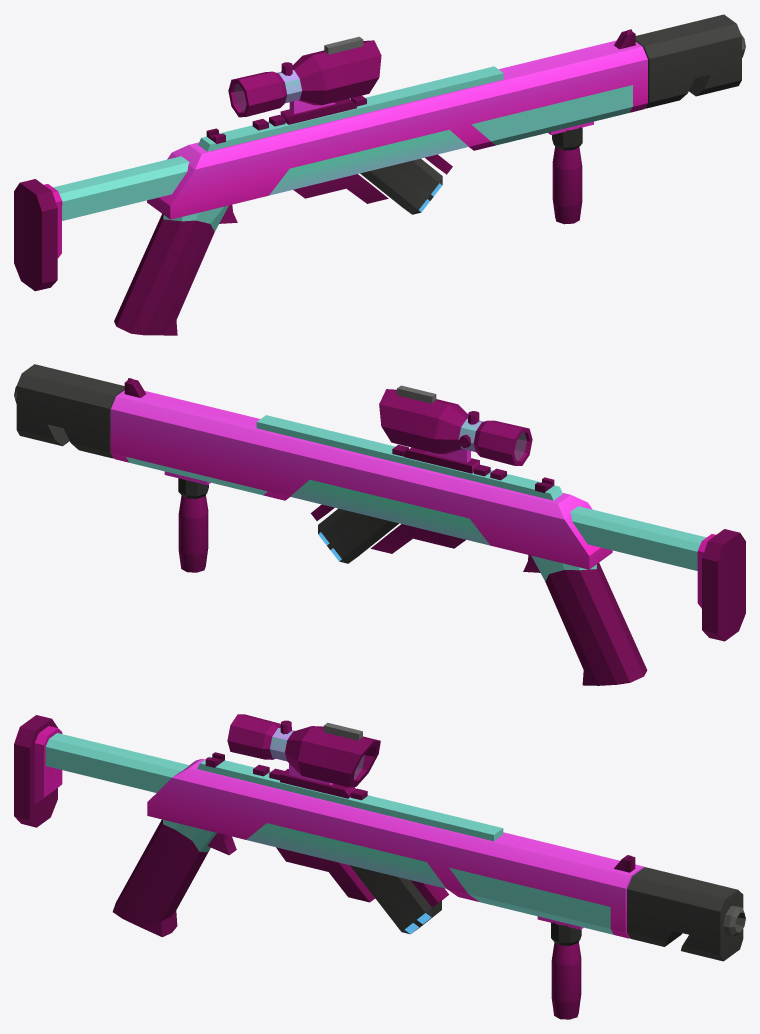
File: DMR_A_mesh.fbx
3 renders of one model, top to bottom at view 1: azimuth 30°, elevation 25°; view 2: azimuth 150°, elevation 25°; view 3: azimuth 330°, elevation 25°, orthographic.
Parts seen in each view (by area): view 1: DMR_A_mesh, ACOG_mesh1, DMR_Silencer_mesh, Foregrip_mesh1, Mag_M_mesh, DMRIronSights_mesh; view 2: DMR_A_mesh, ACOG_mesh1, DMR_Silencer_mesh, Foregrip_mesh1, Mag_M_mesh, DMRIronSights_mesh; view 3: DMR_A_mesh, DMR_Silencer_mesh, ACOG_mesh1, Foregrip_mesh1, Mag_M_mesh.
Boxes of the visible parts, x1,y1,x2,y2 form: DMR_A_mesh: (14,40,647,335); ACOG_mesh1: (228,36,381,124); DMR_Silencer_mesh: (635,14,745,108); Foregrip_mesh1: (548,121,593,224); Mag_M_mesh: (360,158,442,214); DMRIronSights_mesh: (206,29,635,144); DMR_A_mesh: (110,390,745,685); ACOG_mesh1: (379,385,532,473); DMR_Silencer_mesh: (14,364,124,458); Foregrip_mesh1: (164,471,210,572); Mag_M_mesh: (318,508,398,563); DMRIronSights_mesh: (124,378,554,492); DMR_A_mesh: (14,715,644,938); DMR_Silencer_mesh: (627,867,745,961); ACOG_mesh1: (227,714,380,798); Foregrip_mesh1: (537,916,583,1019); Mag_M_mesh: (350,865,441,934).
Size of the model in its own units: 90.62 by 29.95 by 6.29.
3 materials, 1 textured.
